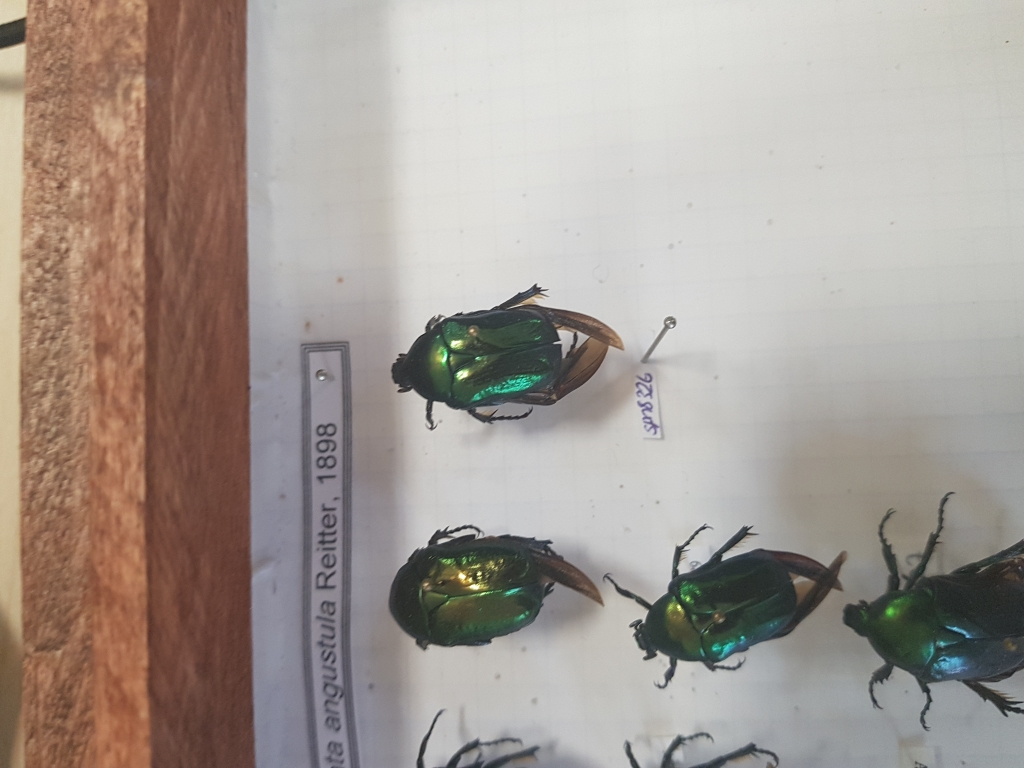Protaetia_angustata_angustata: (369, 275, 626, 445), (609, 508, 847, 691), (388, 513, 608, 667)
